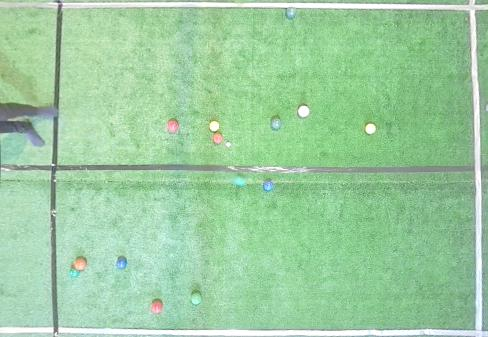blue: (263, 180, 274, 191), (116, 258, 127, 268)
green: (191, 292, 202, 305), (271, 118, 282, 130), (235, 176, 246, 186), (69, 268, 79, 278), (287, 8, 296, 19)
red: (74, 257, 87, 270), (151, 301, 163, 314), (297, 105, 310, 117), (168, 120, 179, 132), (213, 133, 223, 144)
vline: (1, 118, 59, 336), (1, 0, 64, 107), (467, 0, 487, 337)
white: (226, 141, 231, 147)
yellow: (365, 123, 376, 134), (209, 121, 219, 132)
